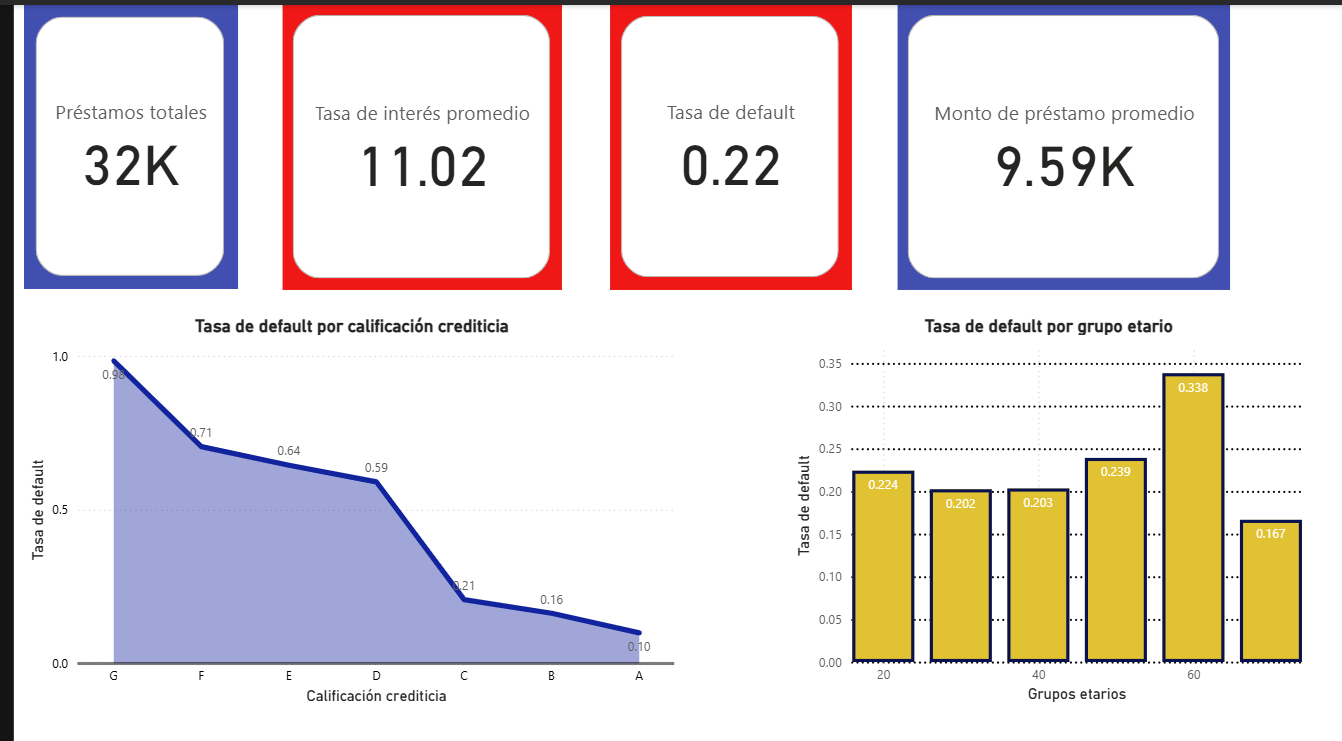

The page's visual inventory and layout, read from the dashboard file:
{"tool":"powerbi","page":{"name":"Page 1","canvas":[1280,720],"ordinal":0},"visuals":[{"type":"cardVisual","fields":{"Data":["df.Total Loans"]},"box":[9.6,0,205.8,273.1],"z":0},{"type":"cardVisual","fields":{"Data":["df.Default Rate"]},"box":[572.8,0,231.7,273.8],"z":1000},{"type":"cardVisual","fields":{"Data":["df.Average Interest Rate"]},"box":[258.2,0,267.8,273.8],"z":2000},{"type":"cardVisual","fields":{"Data":["df.Average Loan Amount"]},"box":[848.9,0,319.4,273.8],"z":3000},{"type":"lineChart","title":"Tasa de default por calificación crediticia","fields":{"Category":["df.loan_grade"],"Y":["df.Default Rate"]},"box":[9.6,297.8,629.8,377.4],"z":4000},{"type":"columnChart","title":"Tasa de default por grupo etario","fields":{"Y":["df.Default Rate"],"Category":["df.person_age (bins)"]},"box":[745.1,297.8,496.7,377.4],"z":5000}]}

Visuals, with their boxes in screenshot pixels (x1, y1, x2, y2), scaled from the page's 1280x720 canvas onto the 1342x741 screenshot:
cardVisual - df.Total Loans: (10, 0, 226, 281)
cardVisual - df.Default Rate: (601, 0, 843, 282)
cardVisual - df.Average Interest Rate: (271, 0, 551, 282)
cardVisual - df.Average Loan Amount: (890, 0, 1225, 282)
"Tasa de default por calificación crediticia" lineChart: (10, 306, 670, 695)
"Tasa de default por grupo etario" columnChart: (781, 306, 1302, 695)
